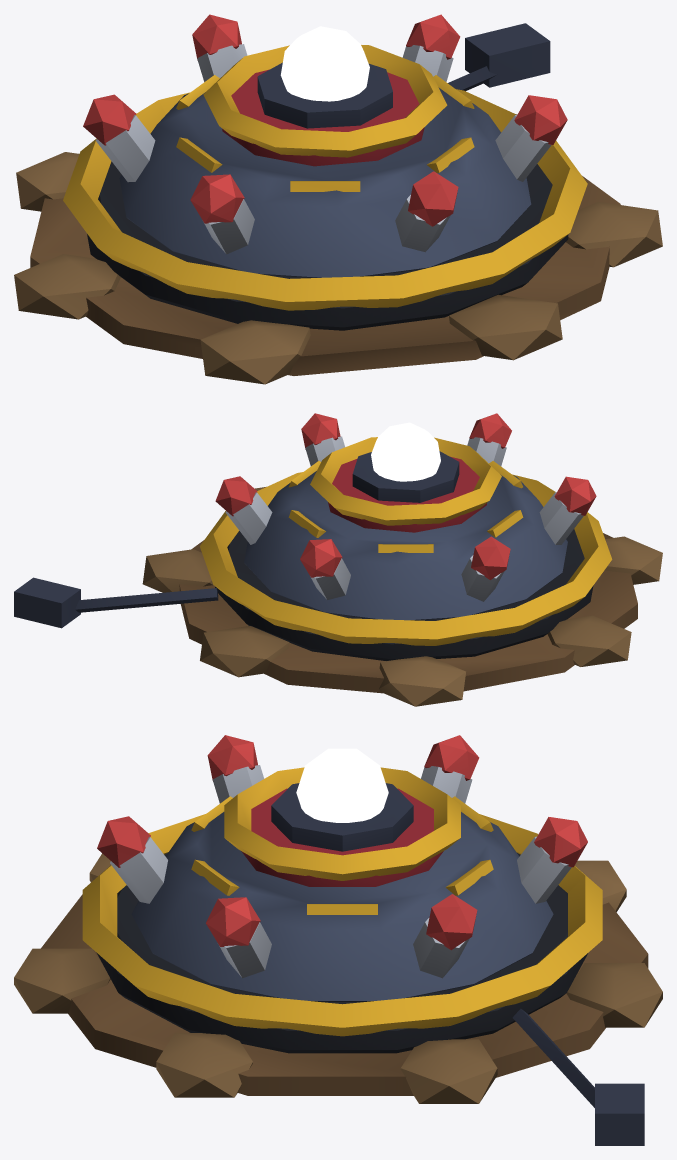
File: b_mine.glb
3 views of the same model, one above another, from view 1: azimuth 30°, elevation 25°; view 2: azimuth 150°, elevation 25°; view 3: azimuth 270°, elevation 25° (orthographic). The views are drawn at different scales.
Parts seen in each view (by area): view 1: body, lv4_ring, lv7_ring, lamp_glow; view 2: body, lv4_ring, lv7_ring, lamp_glow; view 3: body, lv4_ring, lv7_ring, lamp_glow.
Boxes of the visible parts, <box> form: body: <box>14,14,662,384</box>; lv4_ring: <box>63,89,587,310</box>; lv7_ring: <box>203,45,447,157</box>; lamp_glow: <box>280,26,369,101</box>; body: <box>14,413,662,706</box>; lv4_ring: <box>200,472,612,645</box>; lv7_ring: <box>310,437,501,525</box>; lamp_glow: <box>371,422,440,481</box>; body: <box>14,735,662,1145</box>; lv4_ring: <box>82,814,602,1036</box>; lv7_ring: <box>224,767,460,880</box>; lamp_glow: <box>296,748,388,822</box>.
Size of the model in its own units: 2.12 by 0.73 by 1.83.
